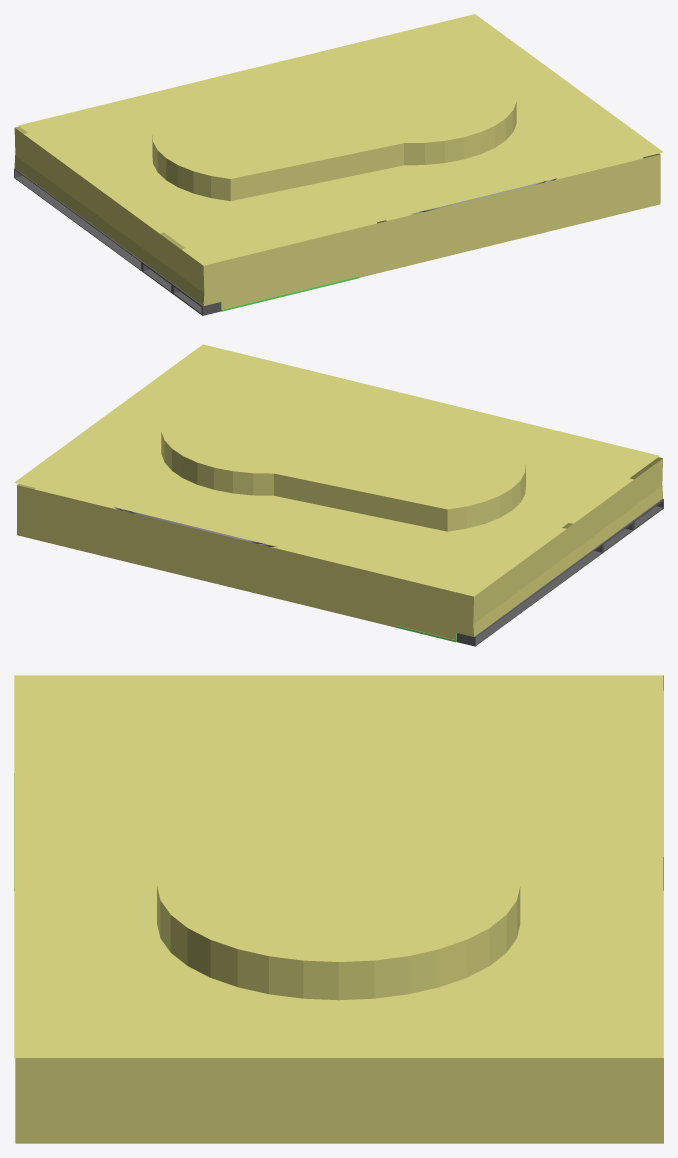
File: Modelo de Disco Duro HDD 2.glb
3 renders of one model, top to bottom at view 1: azimuth 30°, elevation 25°; view 2: azimuth 150°, elevation 25°; view 3: azimuth 270°, elevation 25°, orthographic. The views are drawn at different scales.
Visible parts, largest first — view 1: Carcasa.001, Carcasa, Cube, Cube.001; view 2: Carcasa.001, Carcasa, Cube; view 3: Carcasa.001, Carcasa.
Part boxes in pixels (x1,y1,x2,y2): Carcasa.001: (18,14,663,263); Carcasa: (14,126,660,309); Cube: (14,168,142,271); Cube.001: (172,284,221,315); Carcasa.001: (14,344,659,593); Carcasa: (17,457,662,639); Cube: (456,543,603,646); Carcasa.001: (14,675,662,1057); Carcasa: (15,675,663,1143).
Size of the model in its own units: 9.07 by 1.41 by 6.45.
